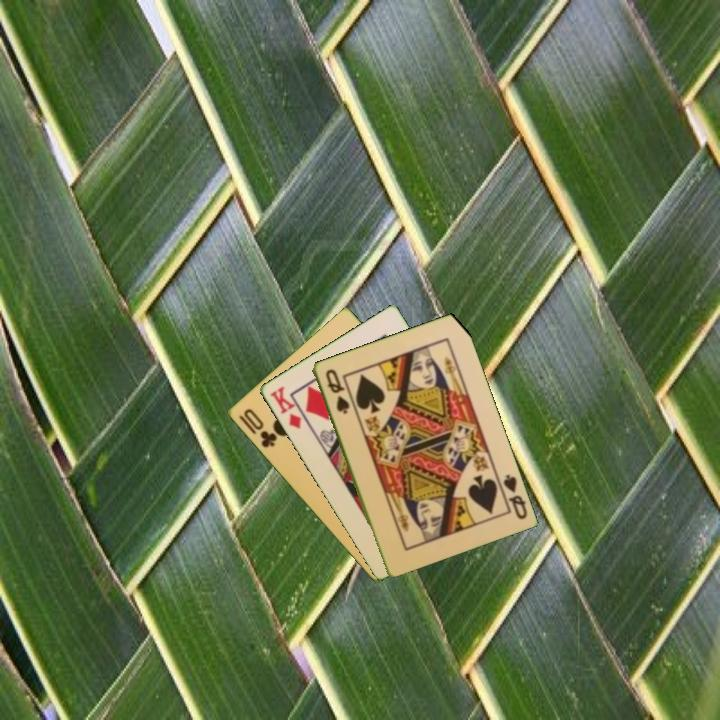10c: (235, 405, 280, 451)
Kd: (266, 382, 304, 432)
Qs: (494, 470, 530, 522), (321, 365, 352, 417)
